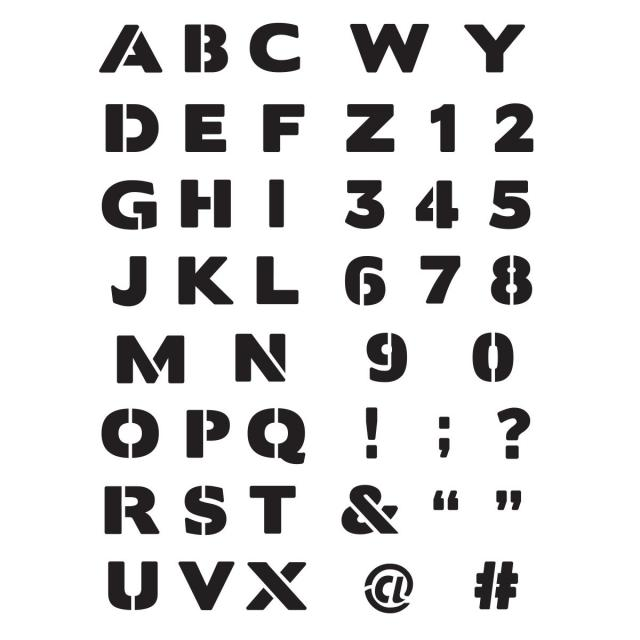S: (178, 475, 228, 541)
